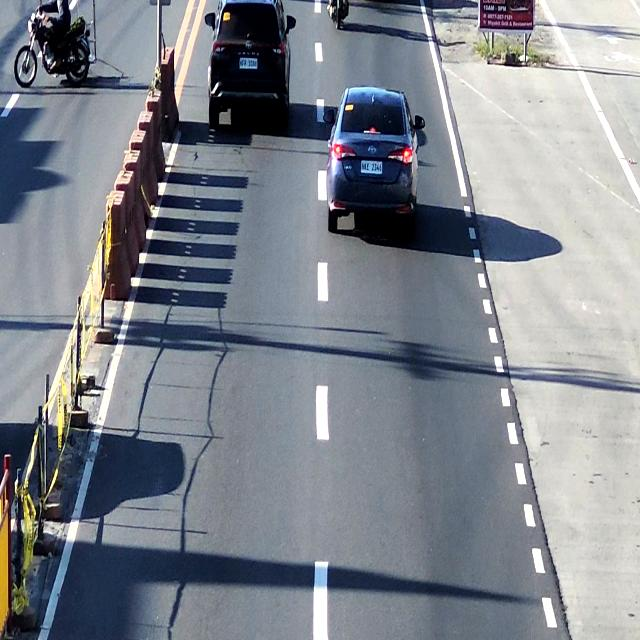Car: (328, 81, 428, 242), (204, 0, 296, 139)
License-Plate: (360, 157, 386, 176)
